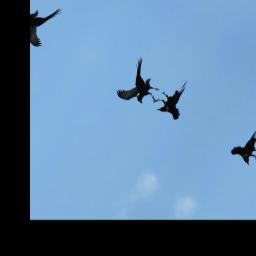Crow: (114, 54, 173, 116)
